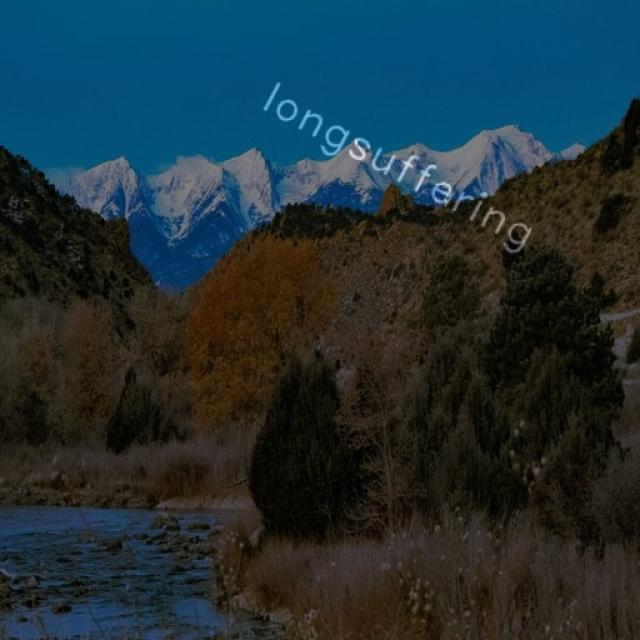watermark: (248, 74, 557, 257)
